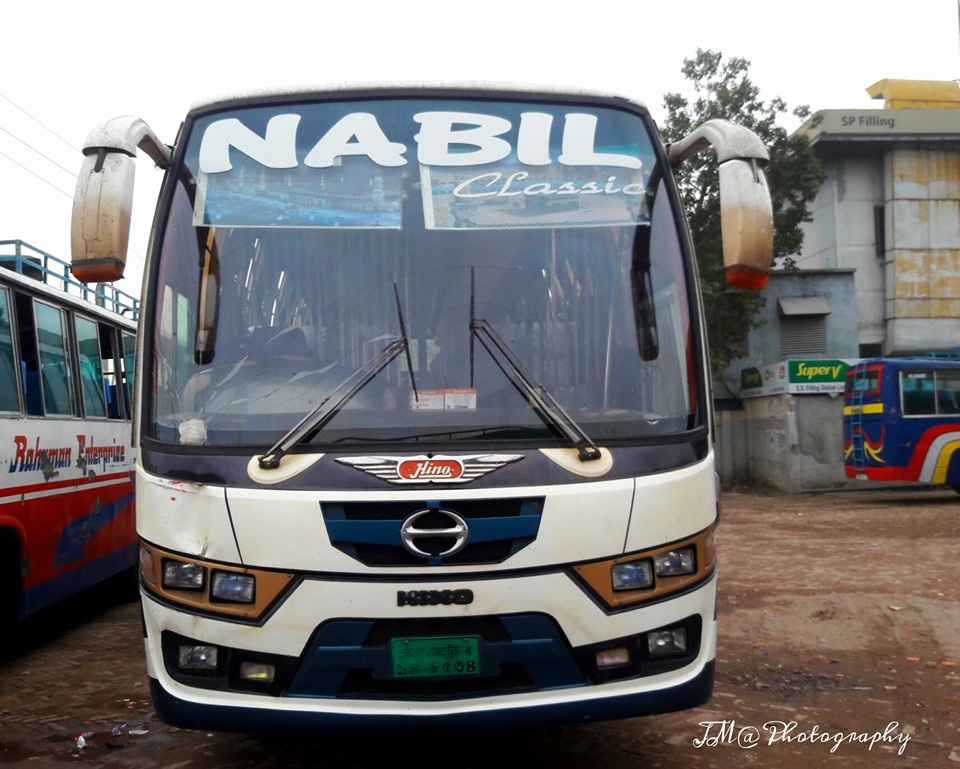bus: (125, 93, 730, 737), (3, 241, 137, 641), (834, 343, 960, 502)
